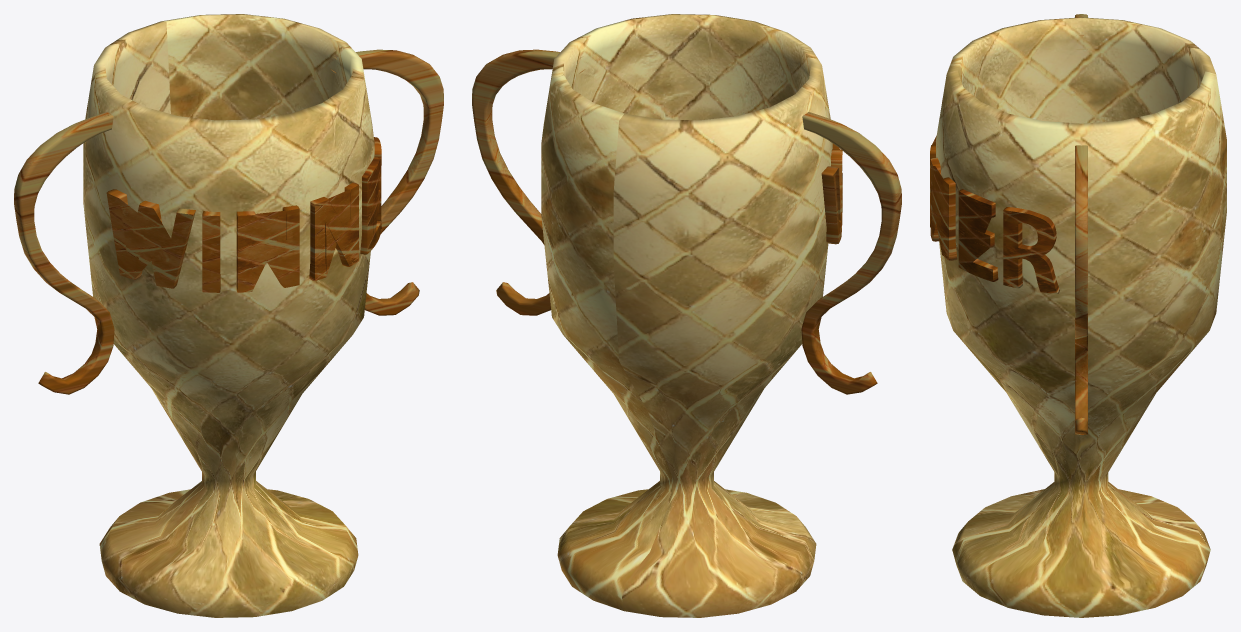
The model's file is Copa.fbx.
The picture shows the model from 3 angles, left to right: view 1: azimuth 30°, elevation 25°; view 2: azimuth 150°, elevation 25°; view 3: azimuth 270°, elevation 25°; orthographic projection.
Parts seen in each view (by area): view 1: polySurface2; view 2: polySurface2; view 3: polySurface2.
Boxes of the visible parts, x1,y1,x2,y2 form: polySurface2: (14,14,443,617); polySurface2: (472,14,901,617); polySurface2: (930,14,1226,617).
Bounding box in the file's own units: 9.97 × 11.13 × 6.06.
